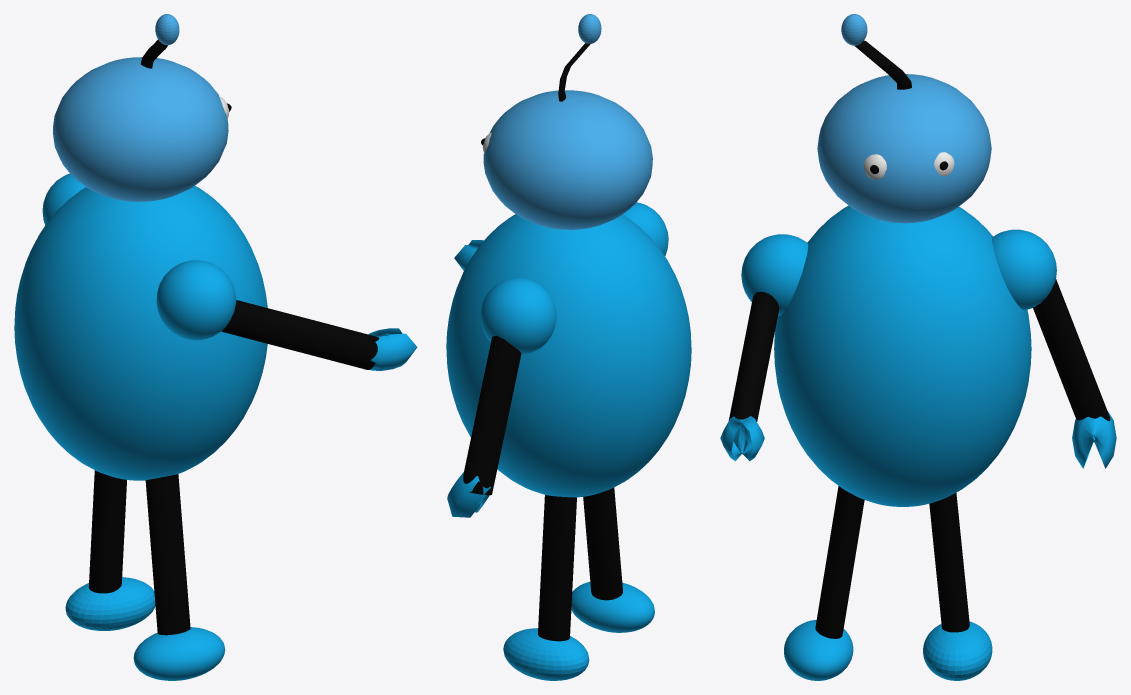
The model's file is playerbot2.fbx.
3 renders of one model, left to right at view 1: azimuth 30°, elevation 25°; view 2: azimuth 150°, elevation 25°; view 3: azimuth 270°, elevation 25°, orthographic. The views are drawn at different scales.
Parts seen in each view (by area): view 1: Sphere, Sphere.003, Cylinder.002, Cylinder.001, Sphere.002, Cylinder.003, Sphere.008, Sphere.009, Torus.002, Sphere.001, Sphere.010; view 2: Sphere, Sphere.003, Cylinder, Cylinder.003, Sphere.001, Cylinder.002, Sphere.009, Sphere.008, Torus.001, Sphere.002, Sphere.010, Cylinder.004 (+1 smaller); view 3: Sphere, Sphere.003, Cylinder, Cylinder.002, Cylinder.003, Sphere.001, Cylinder.001, Sphere.002, Sphere.009, Sphere.008, Torus.001, Torus.002 (+2 smaller).
Part boxes in pixels (left/top/right/bottom): Sphere: left=14, top=186, right=267, bottom=480; Sphere.003: left=53, top=57, right=228, bottom=201; Cylinder.002: left=145, top=474, right=190, bottom=635; Cylinder.001: left=221, top=300, right=379, bottom=369; Sphere.002: left=156, top=260, right=236, bottom=340; Cylinder.003: left=88, top=470, right=126, bottom=593; Sphere.008: left=133, top=627, right=225, bottom=680; Sphere.009: left=65, top=577, right=155, bottom=630; Torus.002: left=368, top=328, right=417, bottom=370; Sphere.001: left=42, top=173, right=85, bottom=225; Sphere.010: left=155, top=14, right=179, bottom=45; Sphere: left=446, top=214, right=691, bottom=497; Sphere.003: left=483, top=90, right=652, bottom=229; Cylinder: left=463, top=336, right=521, bottom=495; Cylinder.003: left=538, top=495, right=576, bottom=641; Sphere.001: left=480, top=277, right=556, bottom=354; Cylinder.002: left=583, top=487, right=622, bottom=600; Sphere.009: left=503, top=628, right=589, bottom=680; Sphere.008: left=571, top=581, right=654, bottom=632; Torus.001: left=447, top=472, right=491, bottom=517; Sphere.002: left=622, top=202, right=668, bottom=255; Sphere.010: left=578, top=14, right=601, bottom=43; Cylinder.004: left=558, top=43, right=590, bottom=101; Sphere: left=774, top=205, right=1031, bottom=506; Sphere.003: left=817, top=74, right=991, bottom=223; Cylinder: left=1033, top=279, right=1110, bottom=420; Cylinder.002: left=815, top=486, right=864, bottom=638; Cylinder.003: left=929, top=493, right=969, bottom=632; Sphere.001: left=992, top=229, right=1056, bottom=310; Cylinder.001: left=728, top=291, right=779, bottom=431; Sphere.002: left=741, top=234, right=808, bottom=315; Sphere.009: left=923, top=621, right=992, bottom=680; Sphere.008: left=784, top=620, right=853, bottom=680; Torus.001: left=1072, top=410, right=1116, bottom=468; Torus.002: left=720, top=416, right=764, bottom=461.
Size of the model in its own units: 392 by 802 by 436.
